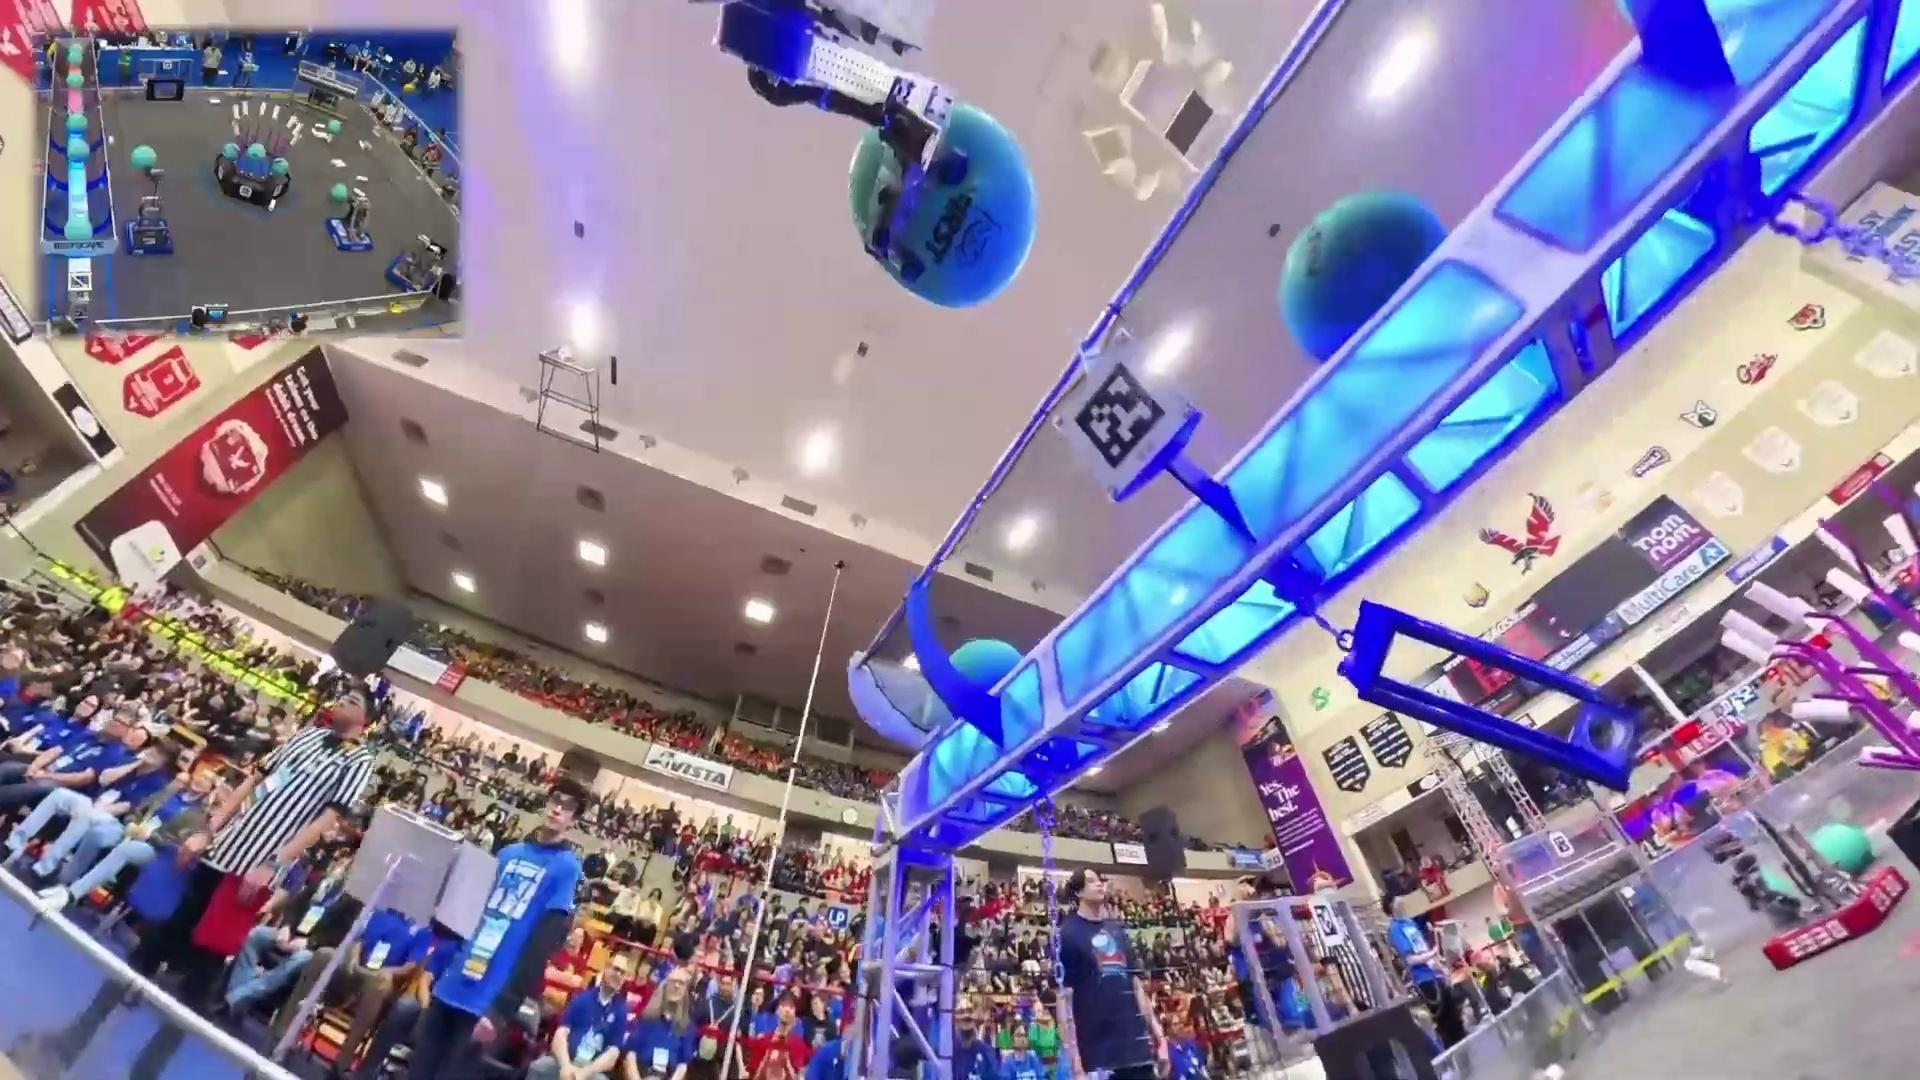robot: (1733, 804, 1908, 967), (121, 164, 177, 260), (386, 235, 442, 295), (327, 187, 375, 255)
